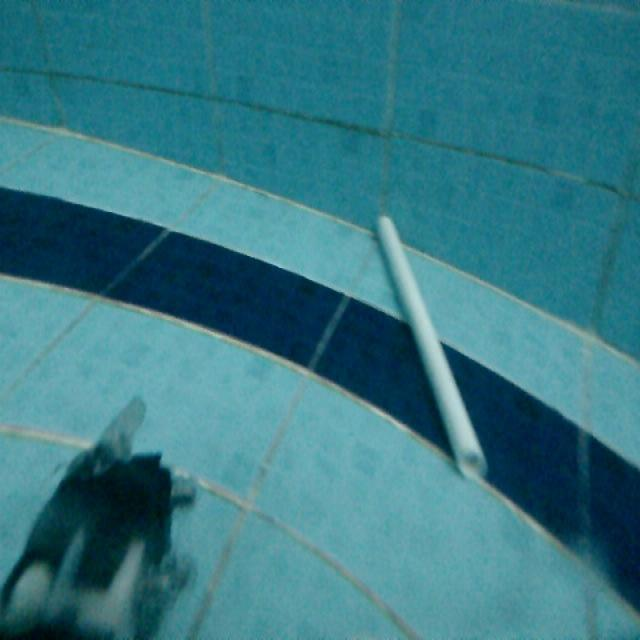Cube: (369, 207, 493, 481)
